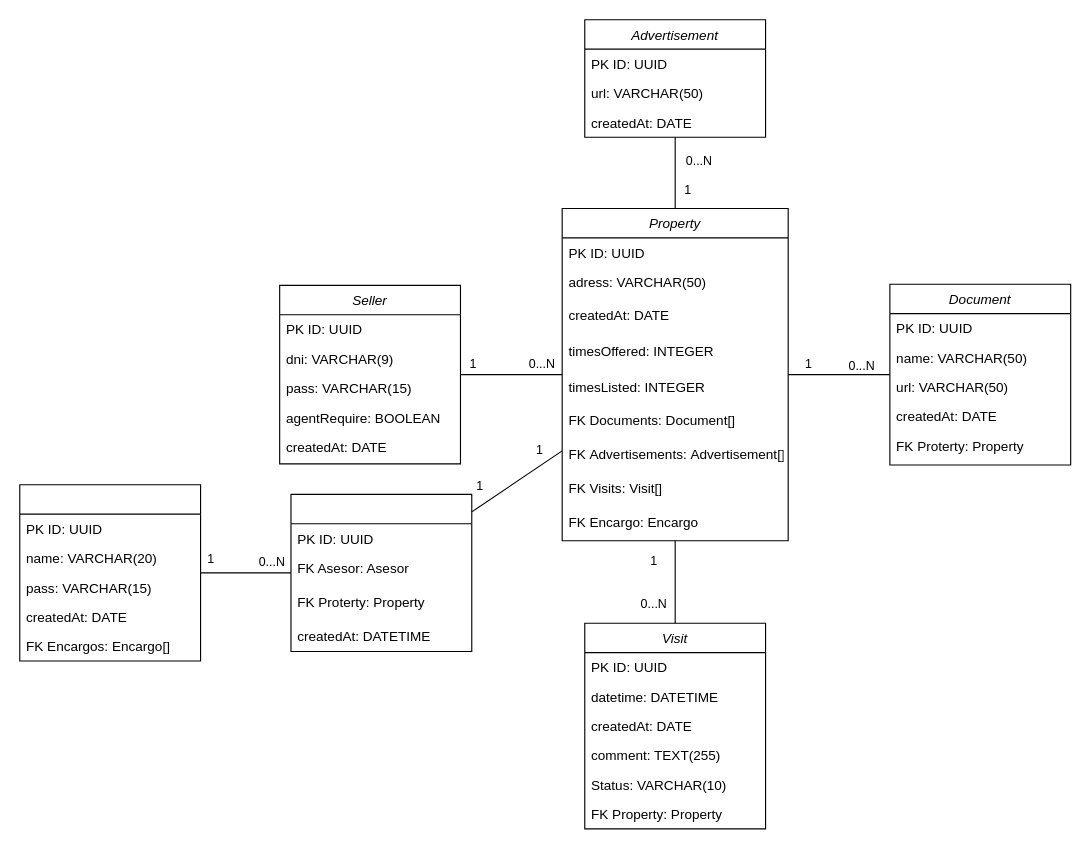
Image size: 1090x852. Some labels were removed from this diagram. The shapes that lost their labels are listed below. From the top down, each one's box as (x1, y1, x2, y2) in pixels, then its label:
(19, 484, 201, 661): Asesor
(290, 493, 472, 651): Encargo
